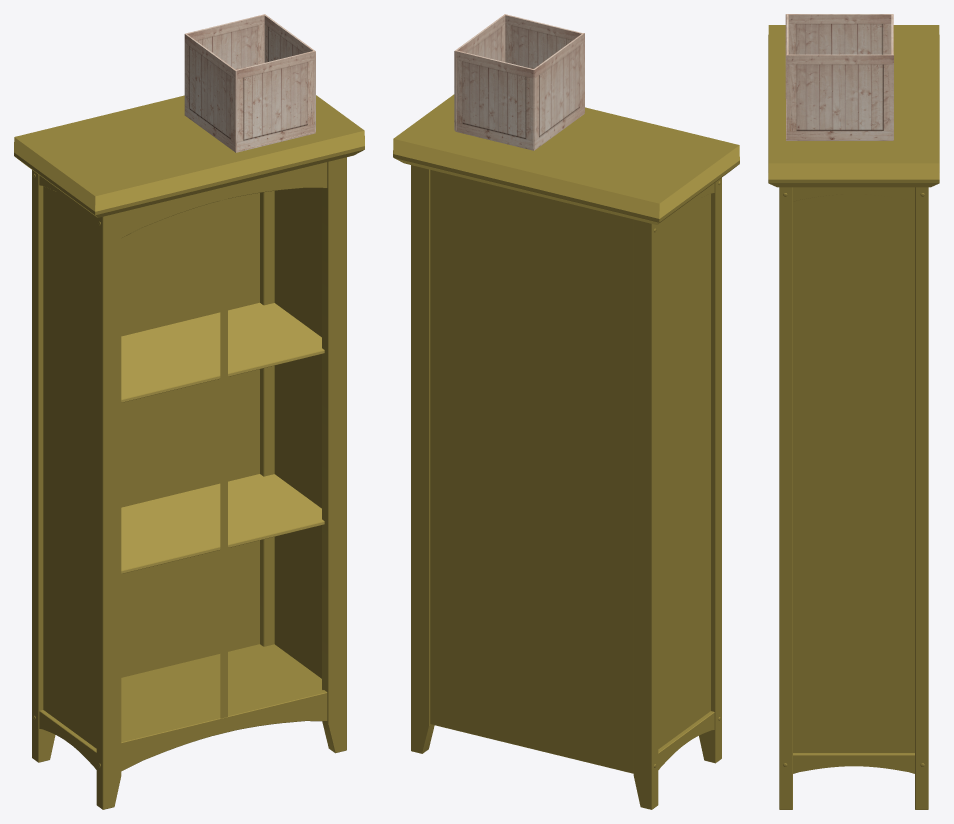
File: ropero.obj
3 renders of one model, left to right at view 1: azimuth 30°, elevation 25°; view 2: azimuth 150°, elevation 25°; view 3: azimuth 270°, elevation 25°, orthographic. The views are drawn at different scales.
Parts seen in each view (by area): view 1: caja:pCube43; view 2: caja:pCube43; view 3: caja:pCube43.
Boxes of the visible parts, x1=… form: caja:pCube43: x1=14, y1=14, x2=364, y2=809; caja:pCube43: x1=393, y1=14, x2=739, y2=809; caja:pCube43: x1=768, y1=14, x2=939, y2=809.
Bounding box in the file's own units: 0.8383 × 2.09 × 0.4376.
Materials: 3 (3 with a texture image).
